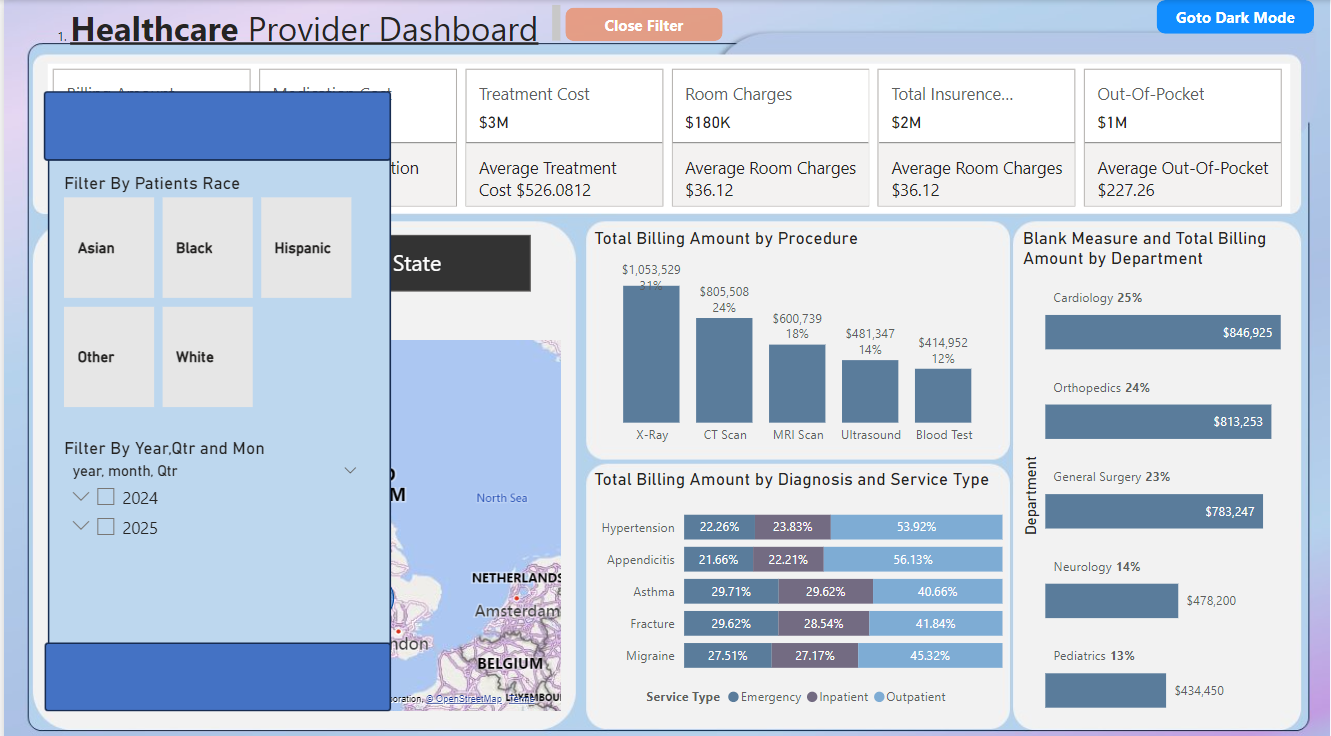

What the dashboard file says about the page in this screenshot:
{"tool":"powerbi","page":{"name":"Detail","canvas":[1280,720],"ordinal":0},"visuals":[{"type":"actionButton","title":"Close","box":[541.7,7.2,152,32.6],"z":0,"group":"g1"},{"type":"cardVisual","fields":{"Data":["measureTable.Total Billing Amount","measureTable.Total Medication Cost","measureTable.Total Treatment Cost","measureTable.Total Room Charges","measureTable.Total Insurence Coverage","measureTable.Out-Of-Pocket"]},"box":[42.7,61.2,1198.9,143.6],"z":0},{"type":"actionButton","title":"Open","box":[542.1,5.7,152,32.6],"z":1000,"group":"g1"},{"type":"map","fields":{"Category":["cities.State"],"Size":["measureTable.Total Billing Amount"]},"box":[42.9,304.3,498.6,387.1],"z":1000},{"type":"slicer","fields":{"Values":[" location Parameter. location Parameter"]},"box":[42.9,220,488.6,68.6],"z":2000},{"type":"clusteredColumnChart","fields":{"Category":["procedures.Procedure"],"Y":["measureTable.Total Billing Amount"]},"box":[564.3,220,404.3,218.6],"z":3000},{"type":"hundredPercentStackedBarChart","fields":{"Y":["measureTable.Total Billing Amount"],"Category":["diagnoses.Diagnosis"],"Series":["visits.Service Type"]},"box":[564.3,452.9,404.3,238.6],"z":4000},{"type":"clusteredBarChart","fields":{"Category":["departments.Department"],"Y":["measureTable.Blank Measure","measureTable.Total Billing Amount"]},"box":[978.6,220,285.7,471.4],"z":5000},{"type":"textbox","box":[41.2,0,500.6,48.4],"z":6000},{"type":"actionButton","box":[1112.3,0,152,32.6],"z":7000},{"type":"group","id":"g1","title":"Slicer btn","box":[541.7,5.7,152.4,34.1],"z":9000}]}

Visuals, with their boxes in screenshot pixels (x1, y1, x2, y2), scaled from the page's 1280x720 canvas onto the 1331x736 screenshot:
"Close" actionButton: 563:7:721:41
cardVisual - measureTable.Total Billing Amount x measureTable.Total Medication Cost: 44:63:1291:209
"Open" actionButton: 564:6:722:39
map - cities.State x measureTable.Total Billing Amount: 45:311:563:707
slicer -  location Parameter. location Parameter: 45:225:553:295
clusteredColumnChart - procedures.Procedure x measureTable.Total Billing Amount: 587:225:1007:448
hundredPercentStackedBarChart - measureTable.Total Billing Amount x diagnoses.Diagnosis: 587:463:1007:707
clusteredBarChart - departments.Department x measureTable.Blank Measure: 1018:225:1315:707
textbox: 43:0:563:49
actionButton: 1157:0:1315:33
"Slicer btn" group: 563:6:722:41
